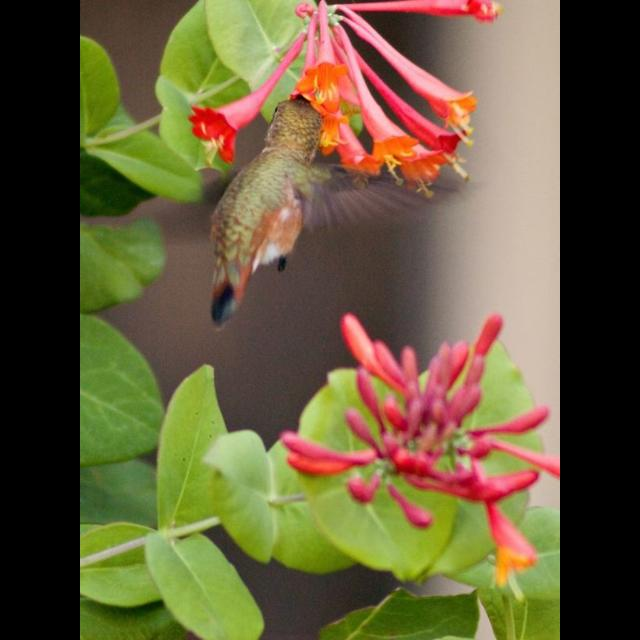Flower: (204, 13, 496, 260), (335, 0, 503, 24)
